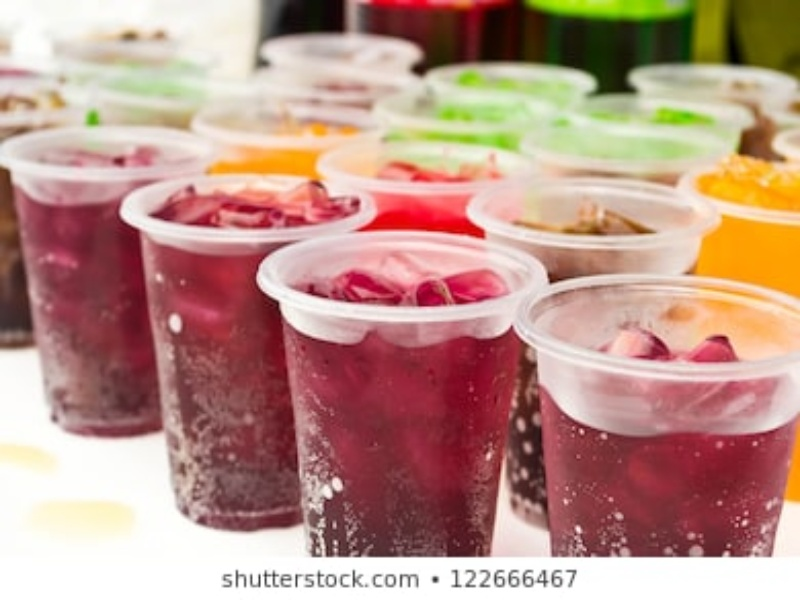plastic-cup: (258, 229, 549, 554), (122, 171, 358, 530), (520, 271, 794, 558), (472, 172, 704, 508), (3, 123, 186, 440), (314, 131, 523, 233), (688, 149, 800, 297)
